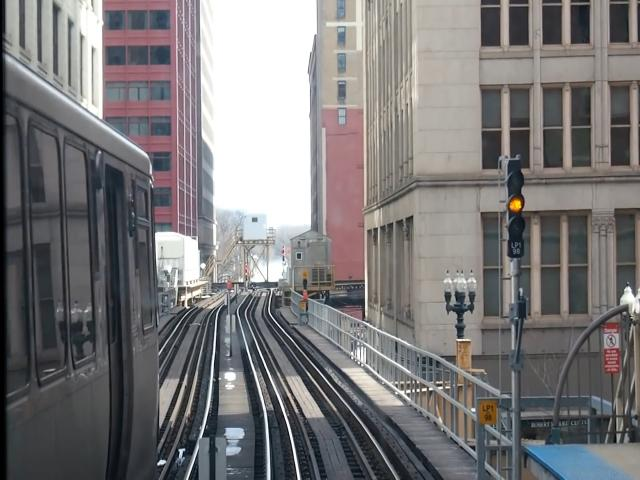signal light: (502, 159, 531, 261), (246, 264, 250, 281), (283, 245, 286, 265)
